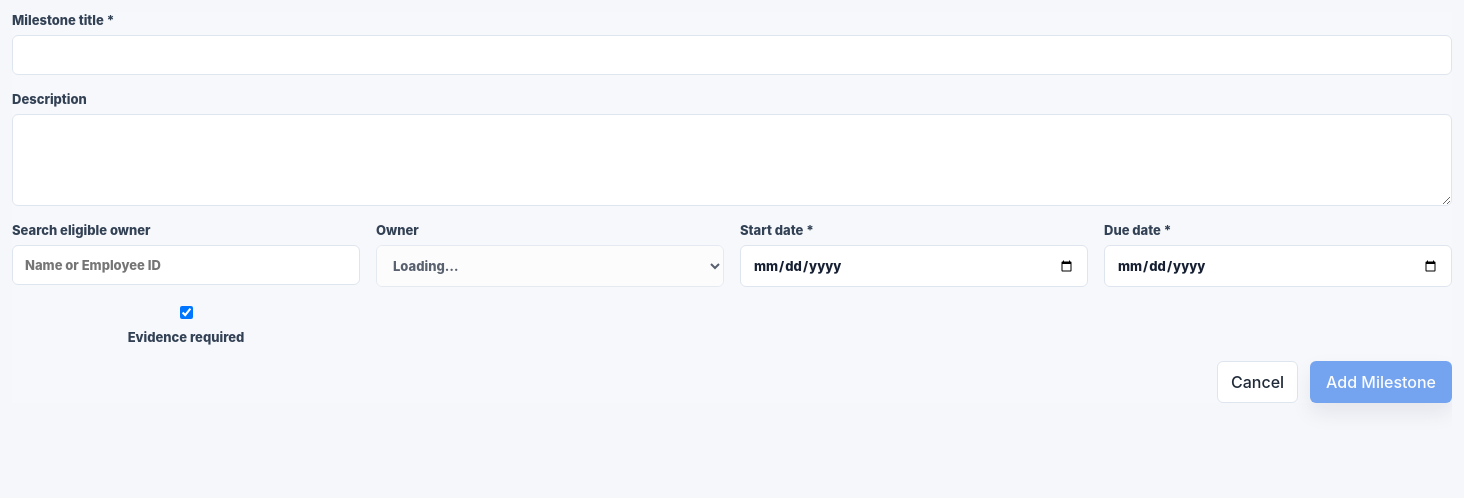
Test: F4 M1 milestone date persistence remediation › fails before mutation when milestone dates are missing or partial ( / )
Type "Incomplete milestone" into the field labelled "Milestone title *" at (732, 55), box [12,35,1452,75]
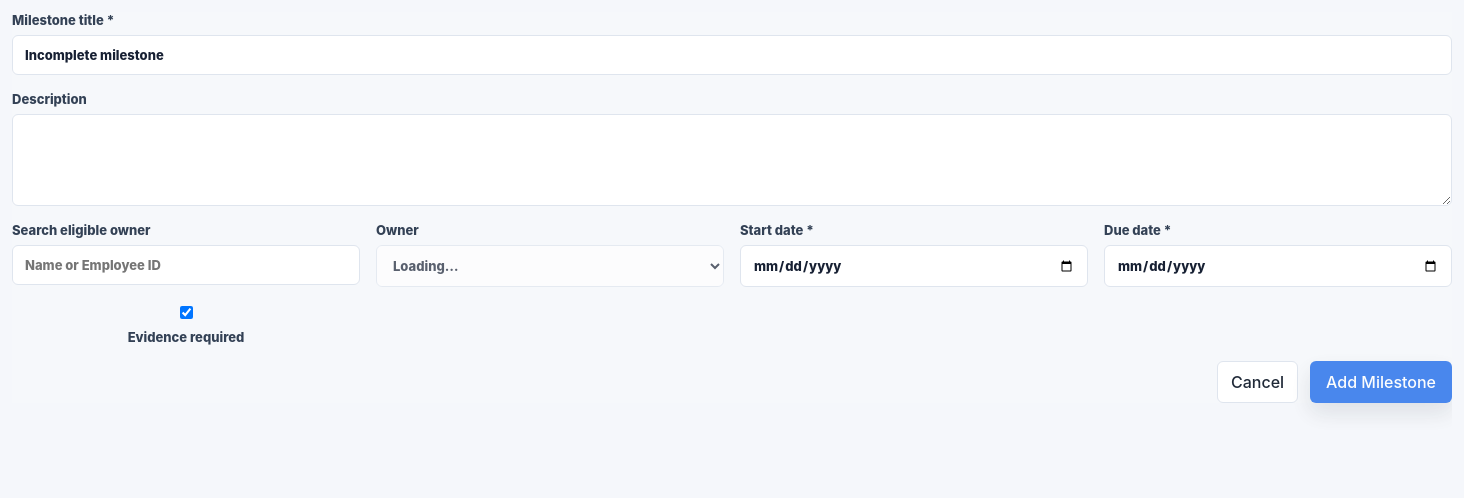
Submit the form named "Add Milestone"
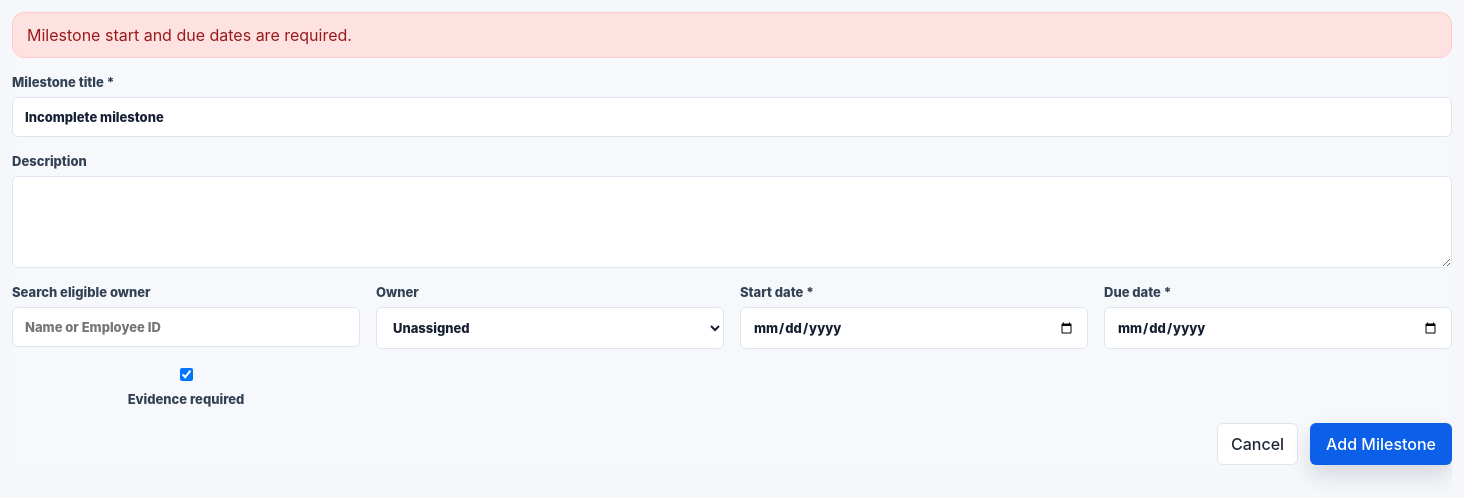
expect the text "Milestone start and due dates are required." is shown: met, box [12,12,1452,58]
